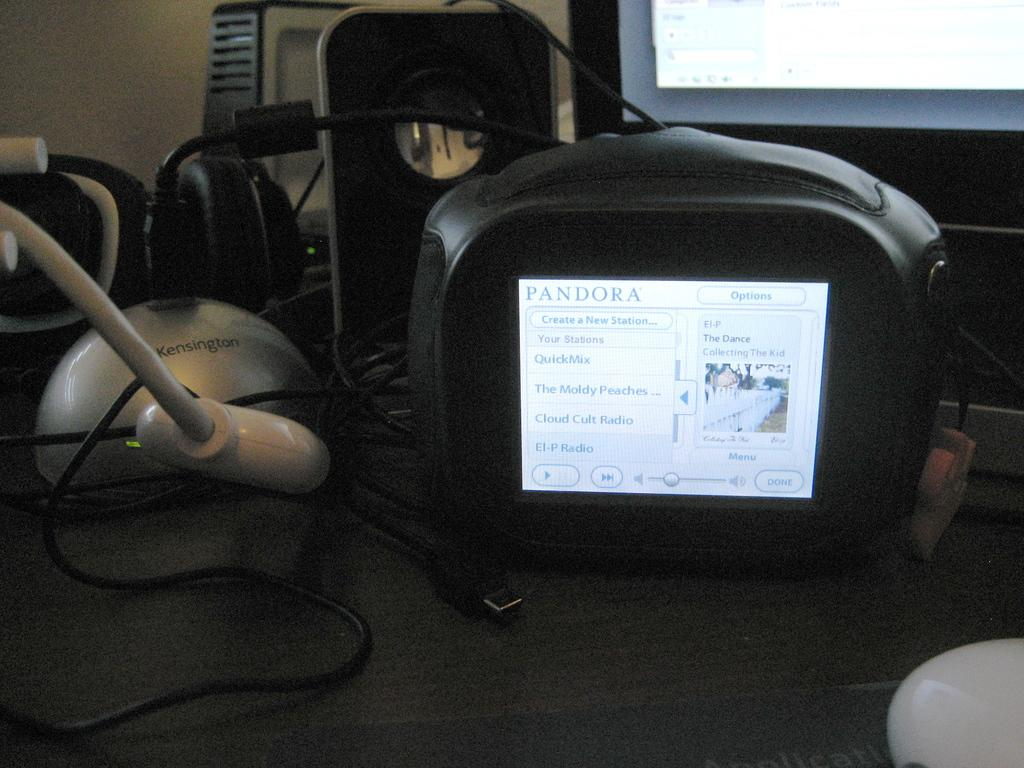Computer-mouse: (886, 636, 1023, 765)
